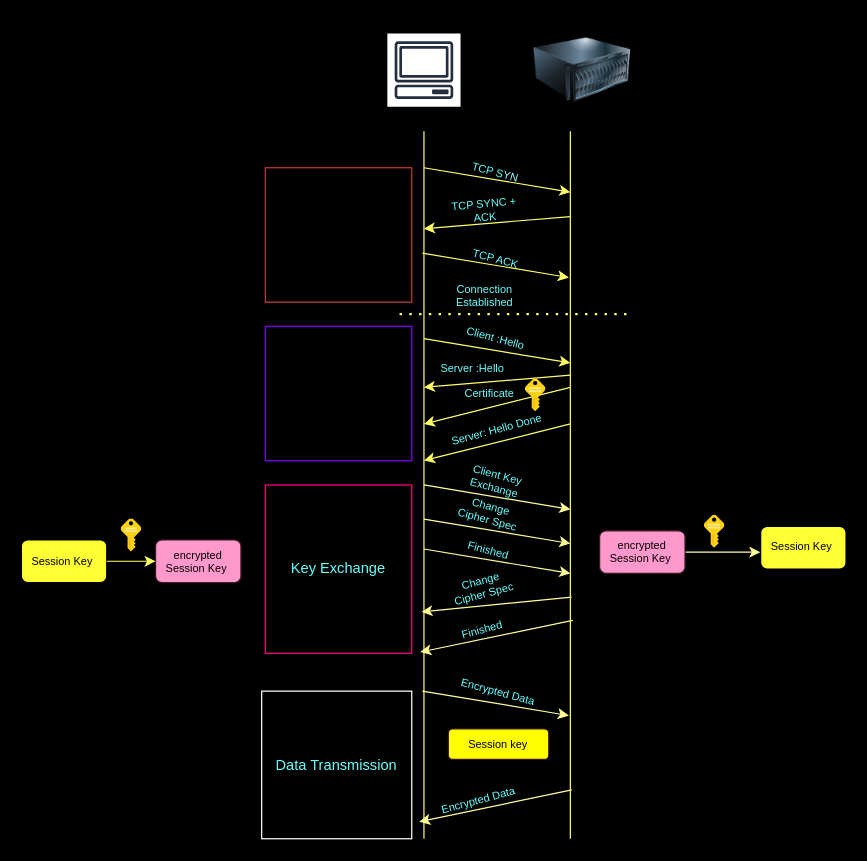
This 867x861 diagram has some shape labels left out. Here are the shapes that lost their labels. From the top down, the centre of each, then its label:
the point at 423,69: Client
the point at 338,234: TCP HandShake
the point at 338,393: Certificate Check
